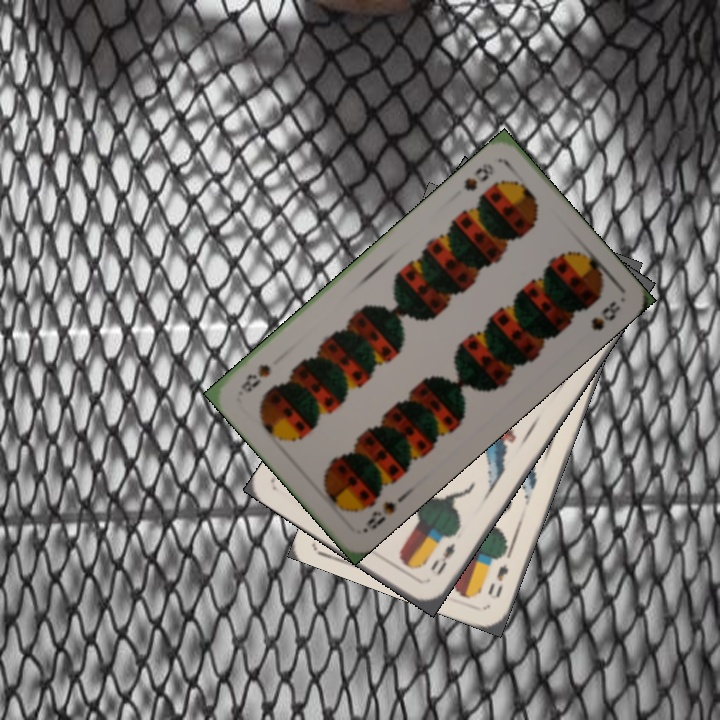EO: (484, 548, 513, 601), (426, 539, 458, 580)
S8: (358, 497, 399, 536), (459, 159, 497, 194)
